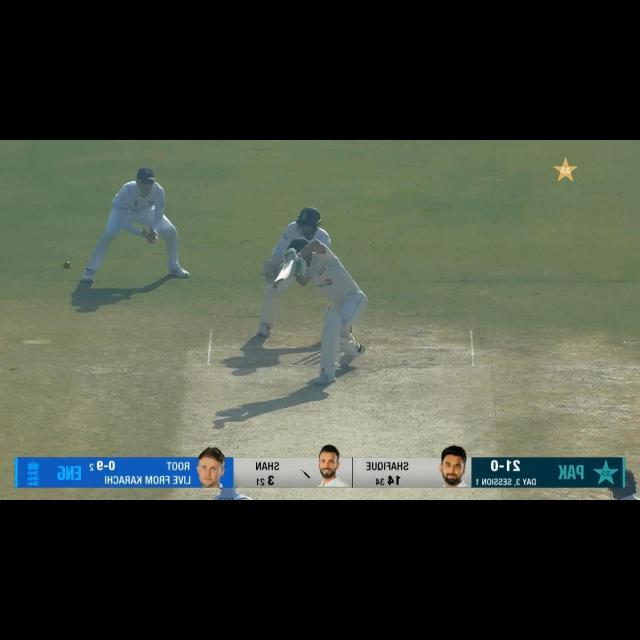bat: (273, 258, 296, 284)
toe: (274, 276, 285, 283)
